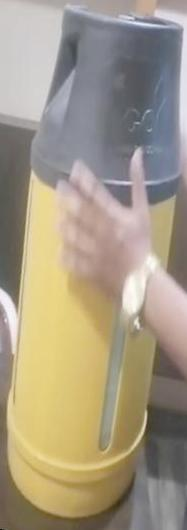cylinder: (1, 1, 187, 530)
